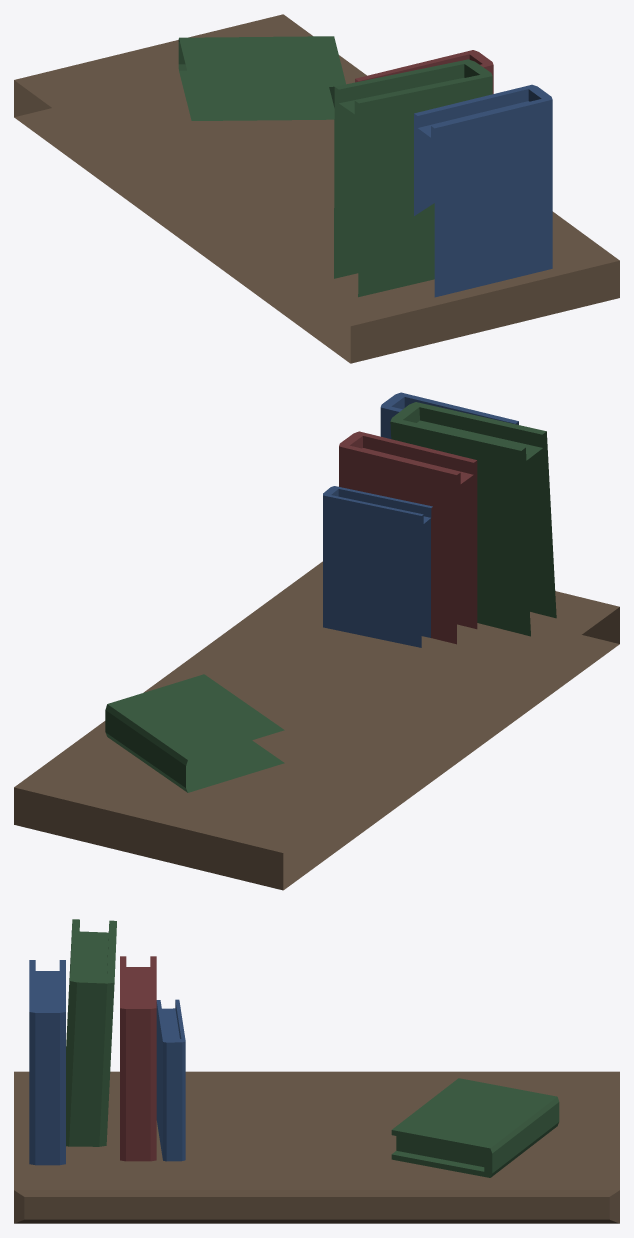
The model's file is BookShelf.fbx.
3 renders of one model, top to bottom at view 1: azimuth 30°, elevation 25°; view 2: azimuth 150°, elevation 25°; view 3: azimuth 270°, elevation 25°, orthographic. The views are drawn at different scales.
Parts seen in each view (by area): view 1: BookShelf; view 2: BookShelf; view 3: BookShelf.
Part boxes in pixels (box(x1,y1,x2,y2)): BookShelf: box(14, 14, 619, 363); BookShelf: box(14, 392, 619, 890); BookShelf: box(14, 919, 619, 1223).
Size of the model in its own units: 48.26 by 38.35 by 103.
